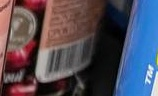1d: (46, 36, 93, 74)
